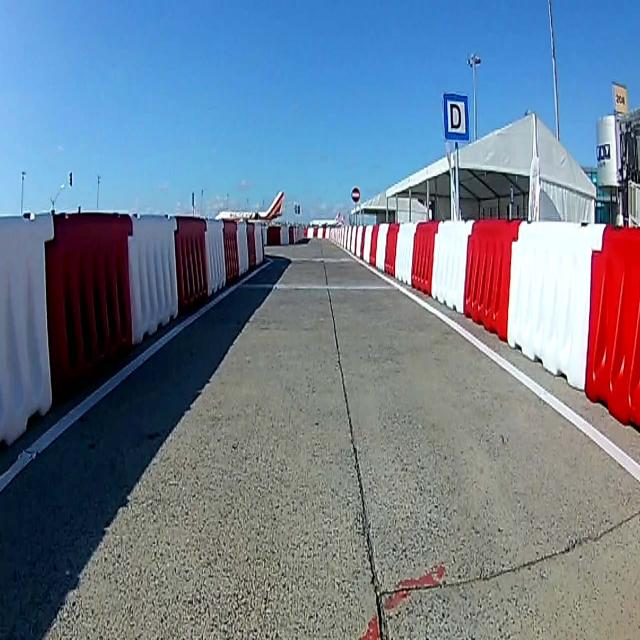durak: (444, 92, 468, 144)
girisyok: (351, 186, 361, 203)
